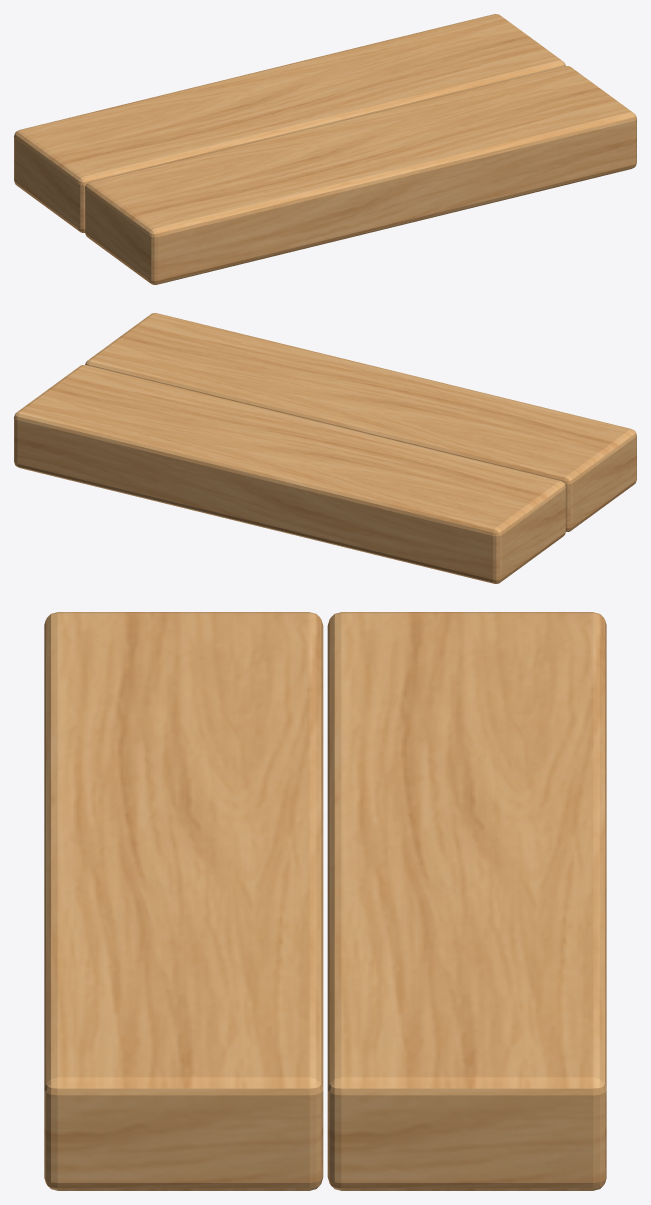
Rendered from plank_1m.glb.
3 views of the same model, one above another, from view 1: azimuth 30°, elevation 25°; view 2: azimuth 150°, elevation 25°; view 3: azimuth 270°, elevation 25° (orthographic). The views are drawn at different scales.
Parts seen in each view (by area): view 1: plank_1m; view 2: plank_1m; view 3: plank_1m.
Boxes of the visible parts, left/top/right/bottom form: plank_1m: left=14, top=14, right=636, bottom=284; plank_1m: left=14, top=313, right=636, bottom=583; plank_1m: left=44, top=612, right=606, bottom=1190.
Size of the model in its own units: 1 by 0.11 by 0.5.
Materials: 2 (1 with a texture image).
